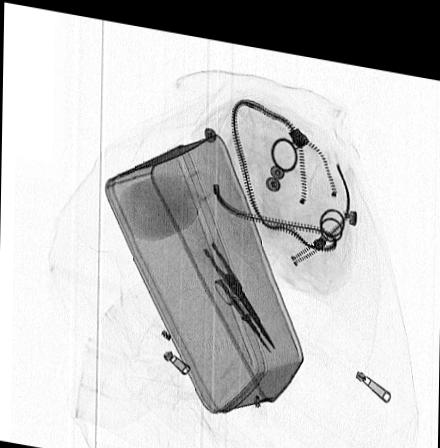Scissors: (159, 173, 276, 337), (212, 265, 272, 343)
